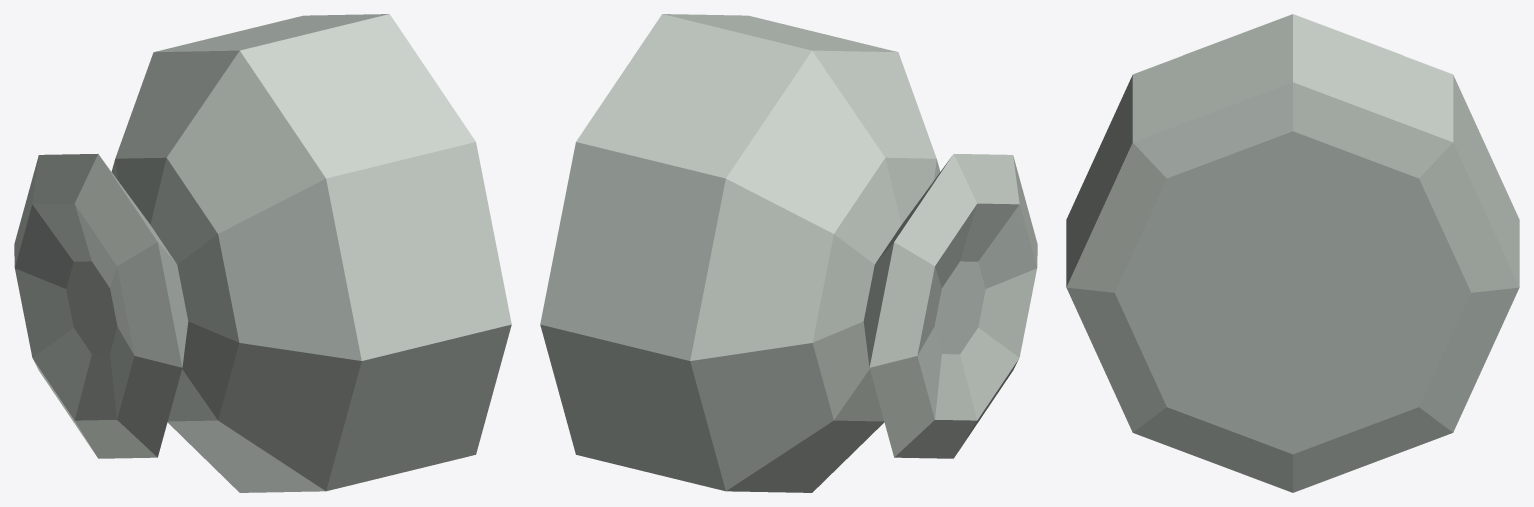
The model's file is 7bakwe.FBX.
3 renders of one model, left to right at view 1: azimuth 30°, elevation 25°; view 2: azimuth 150°, elevation 25°; view 3: azimuth 270°, elevation 25°, orthographic. The views are drawn at different scales.
Visible parts, largest first — view 1: Object002; view 2: Object002; view 3: Object002.
Part boxes in pixels (x1=…): Object002: x1=14, y1=14, x2=511, y2=492; Object002: x1=540, y1=14, x2=1037, y2=492; Object002: x1=1066, y1=14, x2=1519, y2=492.
Size of the model in its own units: 21.5 by 27.83 by 27.83.
1 material, 1 textured.
